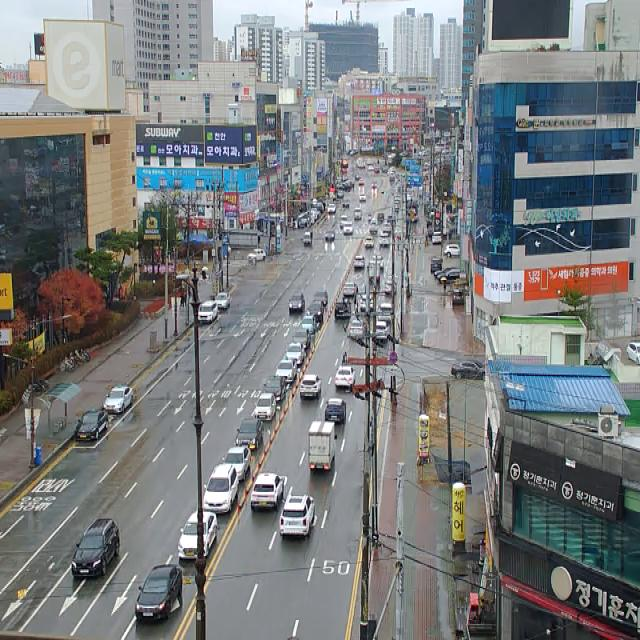Car: (72, 519, 120, 578), (136, 565, 182, 624), (178, 512, 217, 560), (204, 465, 238, 514), (279, 496, 315, 536), (251, 474, 284, 511), (76, 408, 108, 442), (221, 447, 251, 480), (104, 384, 133, 415), (235, 419, 264, 449), (263, 376, 286, 402), (451, 362, 485, 379), (325, 398, 347, 424), (255, 394, 276, 421), (300, 375, 322, 399), (276, 359, 297, 383), (335, 366, 356, 388), (285, 342, 306, 364), (198, 301, 218, 323), (334, 298, 352, 320), (307, 301, 323, 324), (292, 328, 310, 348), (289, 292, 306, 313), (437, 269, 460, 284), (348, 318, 367, 336), (247, 249, 266, 264), (627, 343, 640, 364), (379, 302, 394, 320), (215, 292, 230, 310), (301, 315, 315, 334), (434, 267, 456, 279), (313, 290, 328, 306), (376, 320, 388, 339), (343, 282, 358, 297), (444, 244, 460, 258), (360, 294, 374, 310), (453, 290, 464, 306), (373, 254, 384, 270), (431, 259, 442, 273), (379, 234, 390, 248), (385, 282, 397, 294), (354, 256, 365, 269), (432, 232, 442, 245), (344, 221, 353, 235), (325, 229, 335, 241), (340, 214, 348, 228), (382, 222, 392, 233), (365, 236, 374, 248), (354, 208, 362, 220), (328, 204, 336, 214), (359, 194, 366, 202)
Truck: (308, 422, 337, 471), (367, 262, 380, 284), (304, 228, 313, 246)
